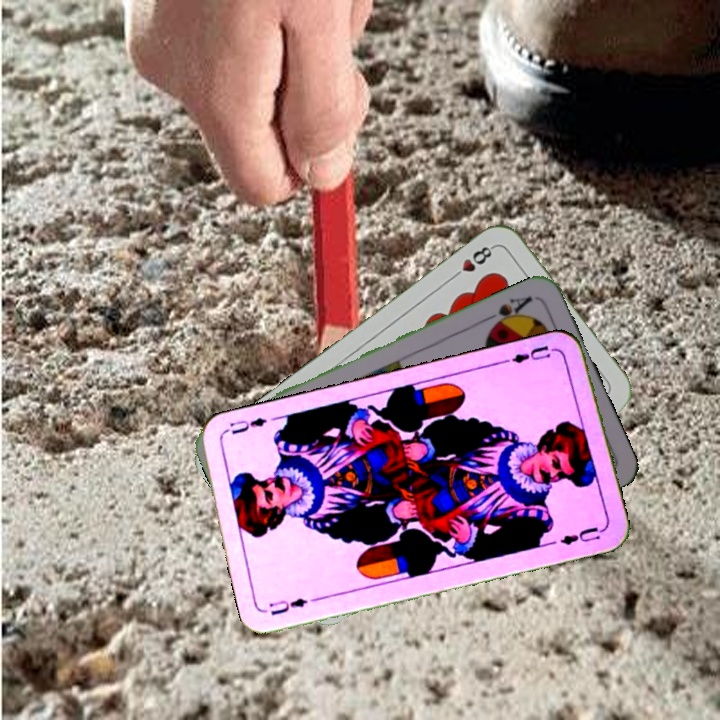EU: (501, 341, 560, 367), (264, 593, 310, 618)
H8: (447, 241, 497, 283)
SA: (481, 292, 535, 332)
